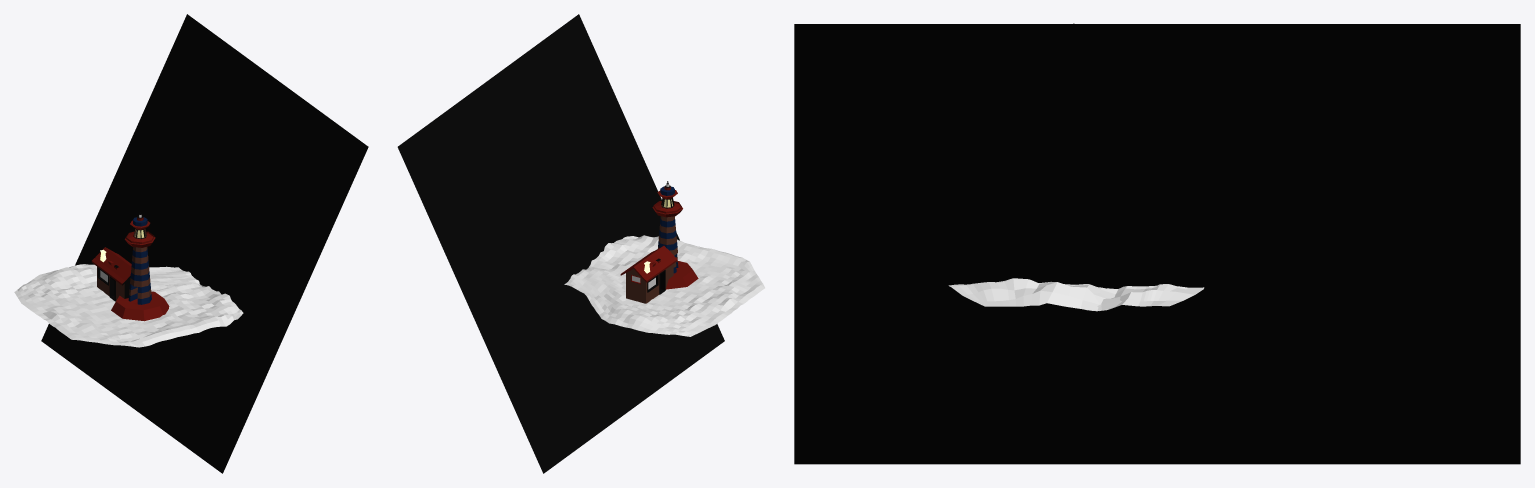
The model's file is Faro.AnaCastroblend.fbx.
3 views of the same model, side by side, from view 1: azimuth 30°, elevation 25°; view 2: azimuth 150°, elevation 25°; view 3: azimuth 270°, elevation 25° (orthographic). The views are drawn at different scales.
Parts seen in each view (by area): view 1: Faro, Plano; view 2: Faro, Plano; view 3: Faro, Plano.
Part boxes in pixels (x1,y1,x2,y2): Faro: (41,14,368,473); Plano: (14,264,243,347); Faro: (397,14,724,473); Plano: (564,235,764,336); Faro: (794,23,1520,464); Plano: (948,278,1204,311).
Size of the model in its own units: 1140 by 1311 by 1480.
